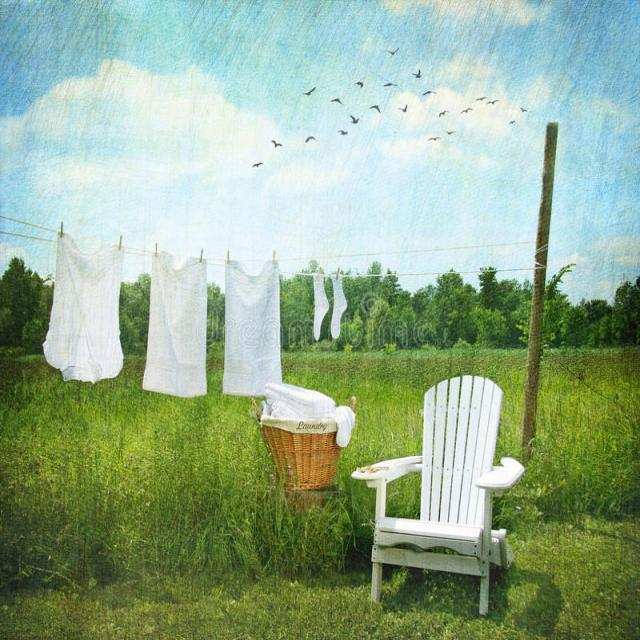clothes: (36, 224, 289, 400)
